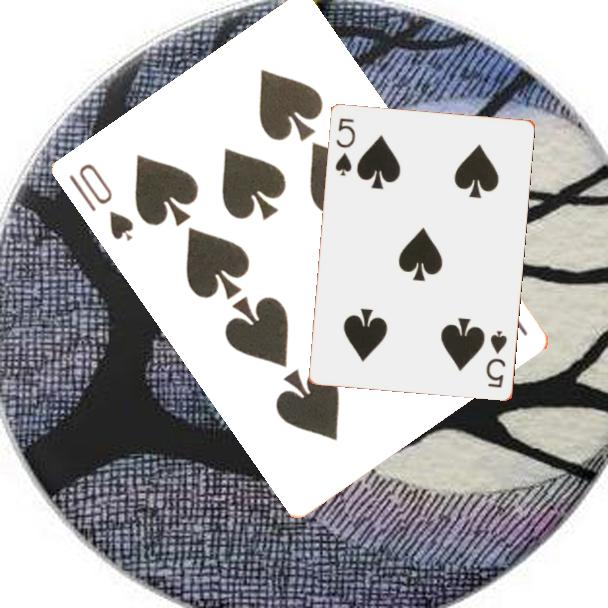s05: (482, 327, 510, 391), (332, 114, 358, 179)
s10: (65, 159, 138, 245)
